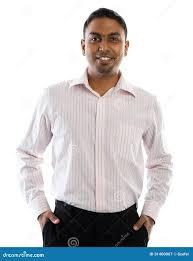Human: (15, 6, 170, 250)
